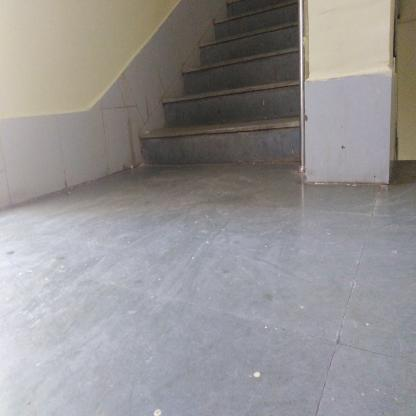stairs: (214, 18, 298, 169)
